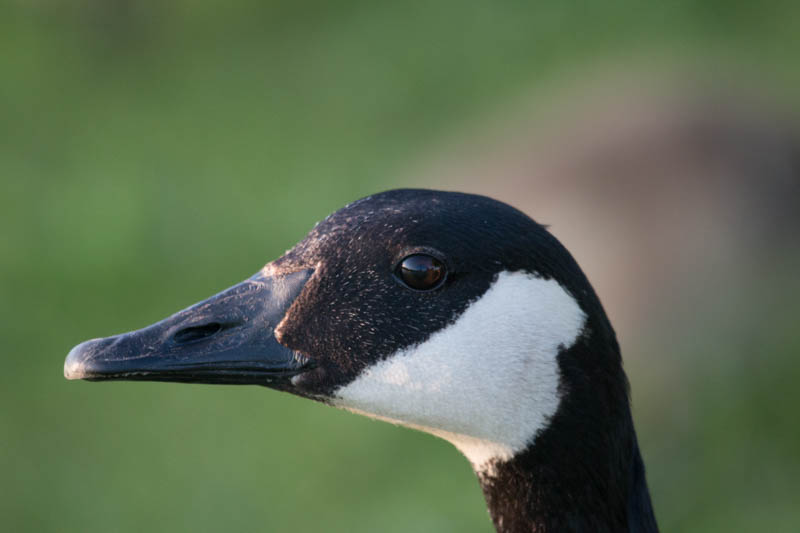goose-head: (62, 187, 630, 477)
